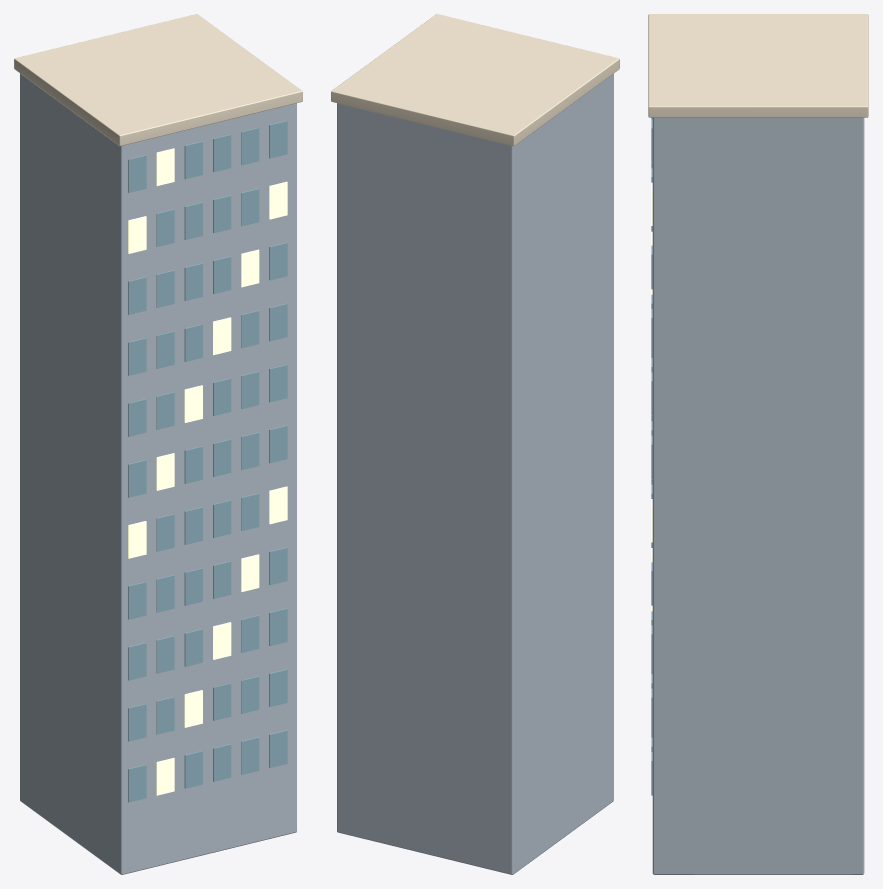
File: tower_a.glb
The picture shows the model from 3 angles, left to right: view 1: azimuth 30°, elevation 25°; view 2: azimuth 150°, elevation 25°; view 3: azimuth 270°, elevation 25°; orthographic projection. The views are drawn at different scales.
Parts seen in each view (by area): view 1: Body, Crown, W7_5, W8_5, W1_0, W1_1, W1_4, W1_5, W2_0, W2_2, W2_5, W3_0 (+56 smaller); view 2: Body, Crown; view 3: Body, Crown.
Part boxes in pixels (x1,y1,x2,y2): Body: (20,73,296,874); Crown: (14,14,302,146); W7_5: (269,364,287,402); W8_5: (269,303,287,341); W1_0: (128,764,146,802); W1_1: (156,758,174,795); W1_4: (241,737,259,774); W1_5: (269,730,287,767); W2_0: (128,703,146,741); W2_2: (184,690,202,727); W2_5: (269,669,287,706); W3_0: (128,642,146,680); Body: (337,73,613,874); Crown: (331,14,619,146); Body: (652,117,864,874); Crown: (648,14,868,117).
Size of the model in its own units: 10.4 by 40.2 by 10.4.
